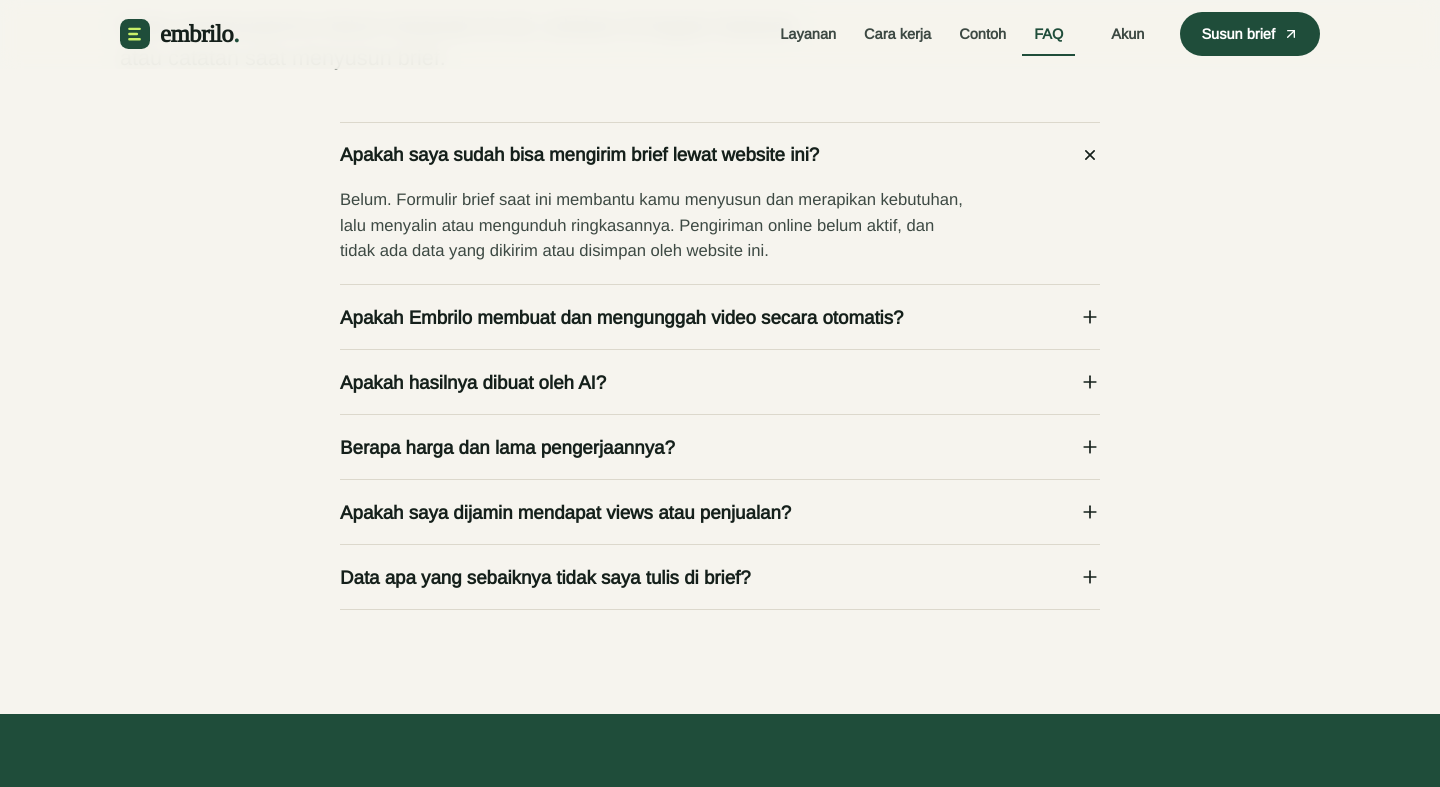
Test case: navigation & disclosure › FAQ accordion toggles aria-expanded and panel visibility
(page scrolled)
Click the button "Berapa harga dan lama pengerjaannya?".
click(507, 447)  # box [340,415,1100,479]
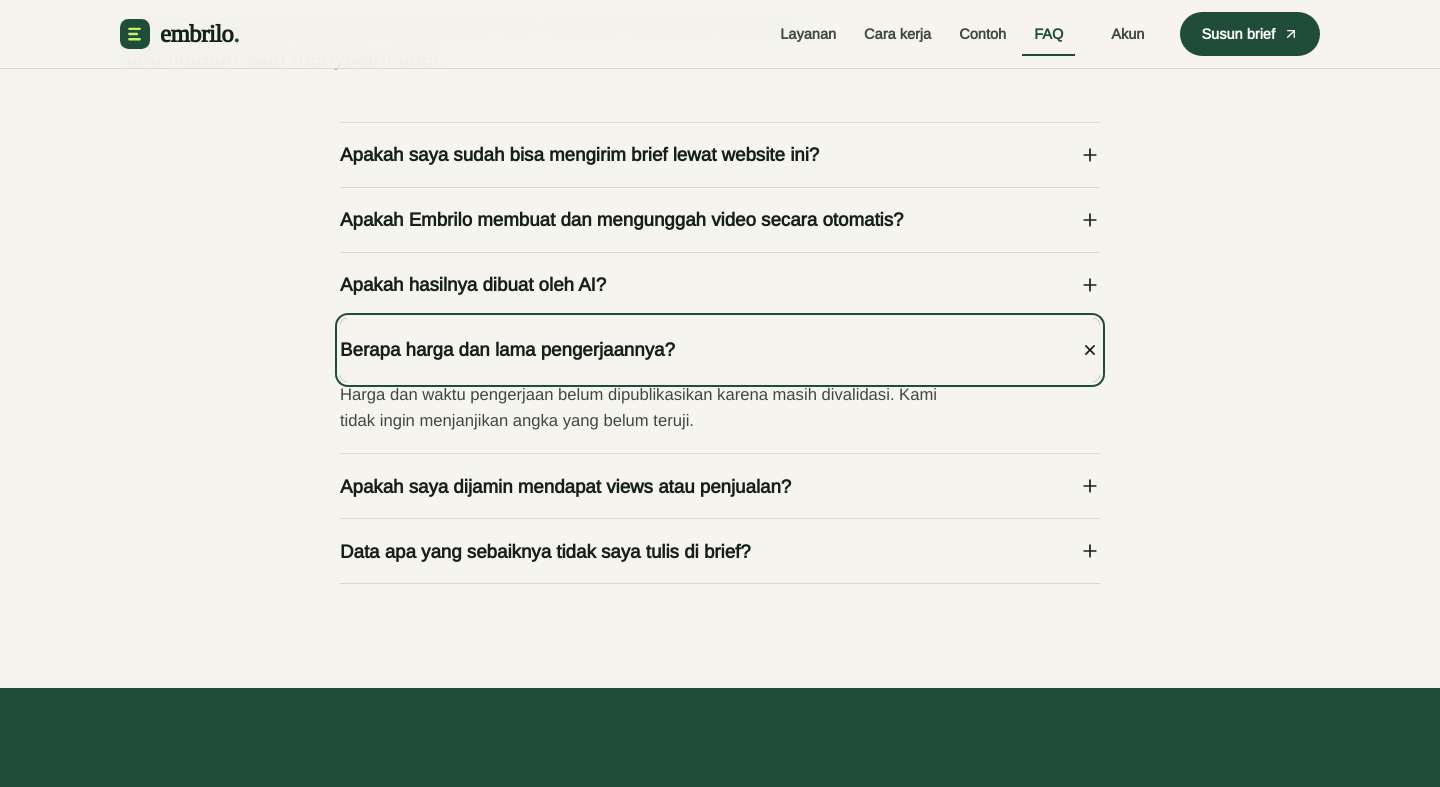
Expected: the button "Berapa harga dan lama pengerjaannya?" is expanded, [340,318,1100,382]
Expected: the text "Harga dan waktu pengerjaan belum dipublikasikan karena masih divalidasi. Kami" is shown, [340,383,937,431]
